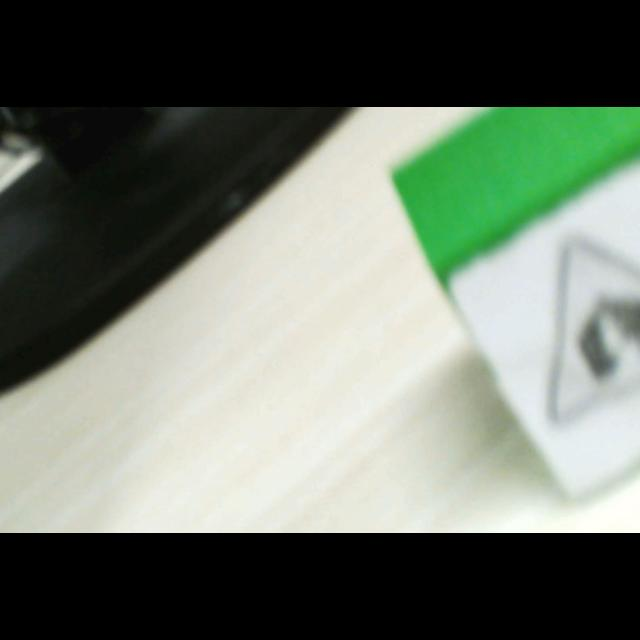Earthquake: (549, 235, 640, 425)
